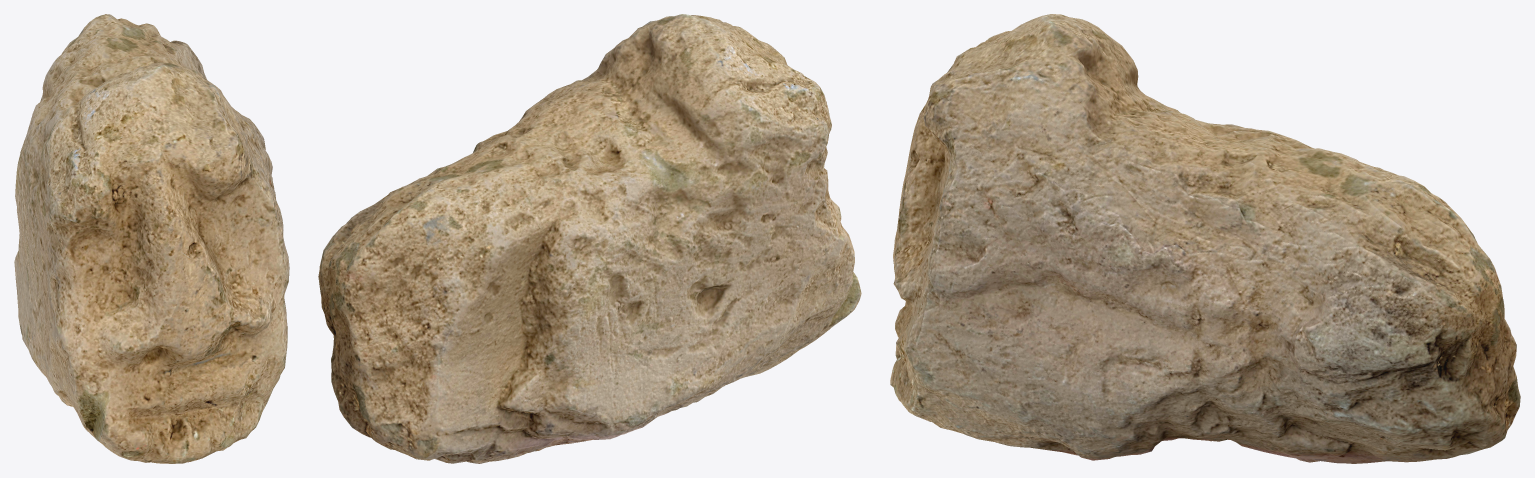
File: nailHead.glb
3 views of the same model, side by side, from view 1: azimuth 30°, elevation 25°; view 2: azimuth 150°, elevation 25°; view 3: azimuth 270°, elevation 25° (orthographic). The views are drawn at different scales.
Visible parts, largest first — view 1: default_bien06_1001_0; view 2: default_bien06_1001_0; view 3: default_bien06_1001_0.
Part boxes in pixels (x1,y1,x2,y2): default_bien06_1001_0: (14,14,289,463); default_bien06_1001_0: (318,14,861,463); default_bien06_1001_0: (890,14,1520,463).
Size of the model in its own units: 2.02 by 2.13 by 2.96.
Materials: 1 (1 with a texture image).
